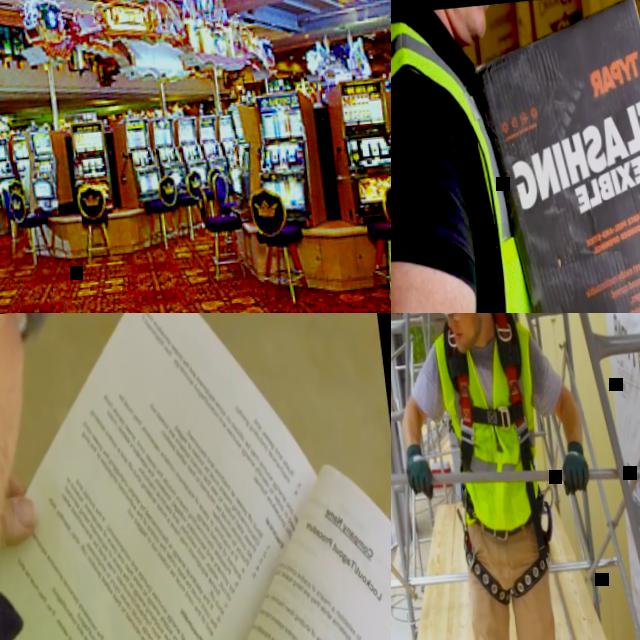no_mask: (0, 313, 63, 640), (445, 4, 496, 46), (452, 318, 477, 351)
no_vest: (434, 322, 550, 530)
person: (391, 0, 640, 313), (391, 313, 618, 640), (0, 313, 125, 640)
vest: (391, 7, 581, 313)
